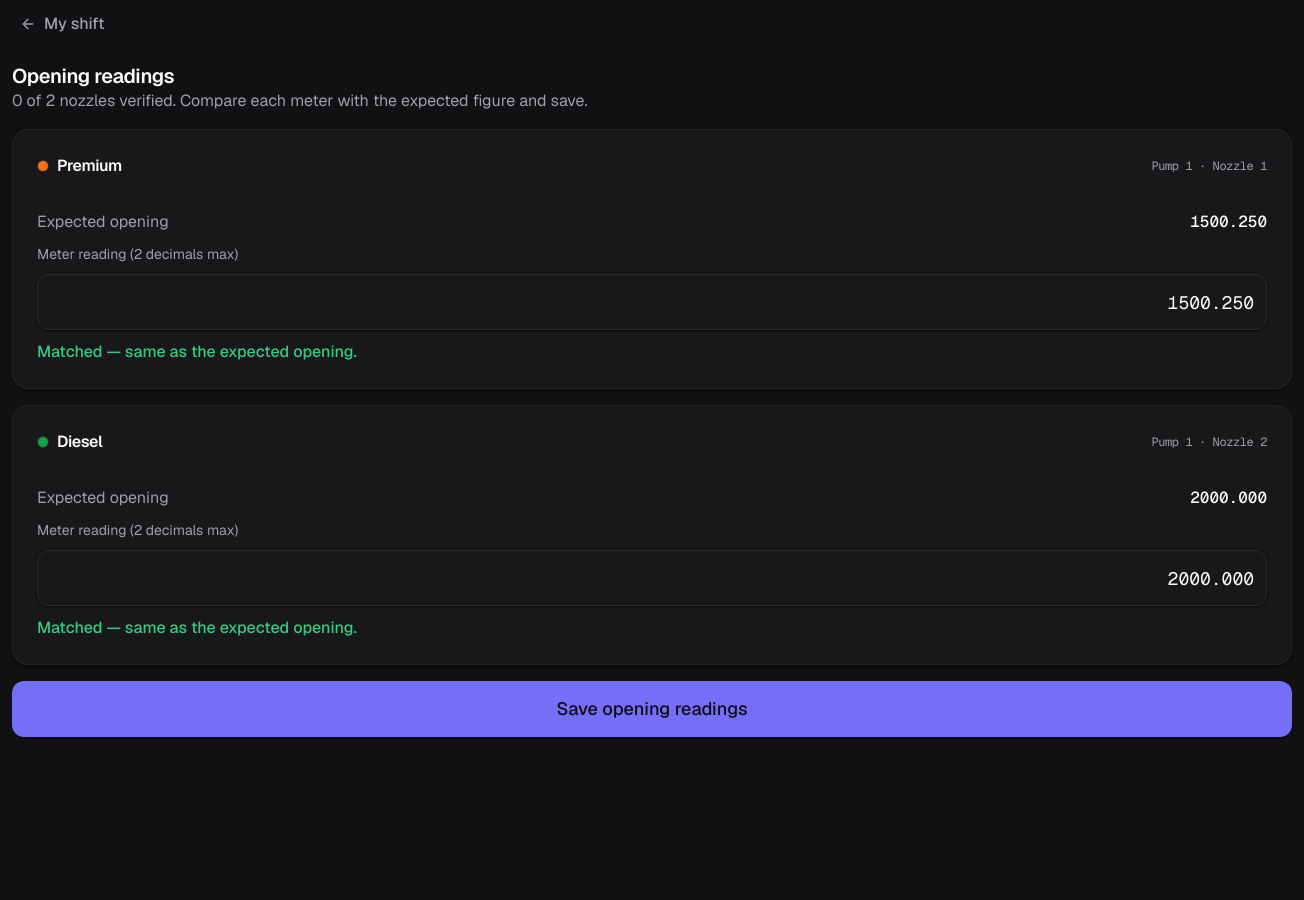
Test: OpeningReadingsPage › files a self-service incident one-tap when the actor holds incidents.report (no station_id, with dedupe_key)
Step 1. Replace the text in the field labelled "Meter reading (2 decimals max)" below "1500.250" with "1" → (652, 302), box [37,274,1267,330]
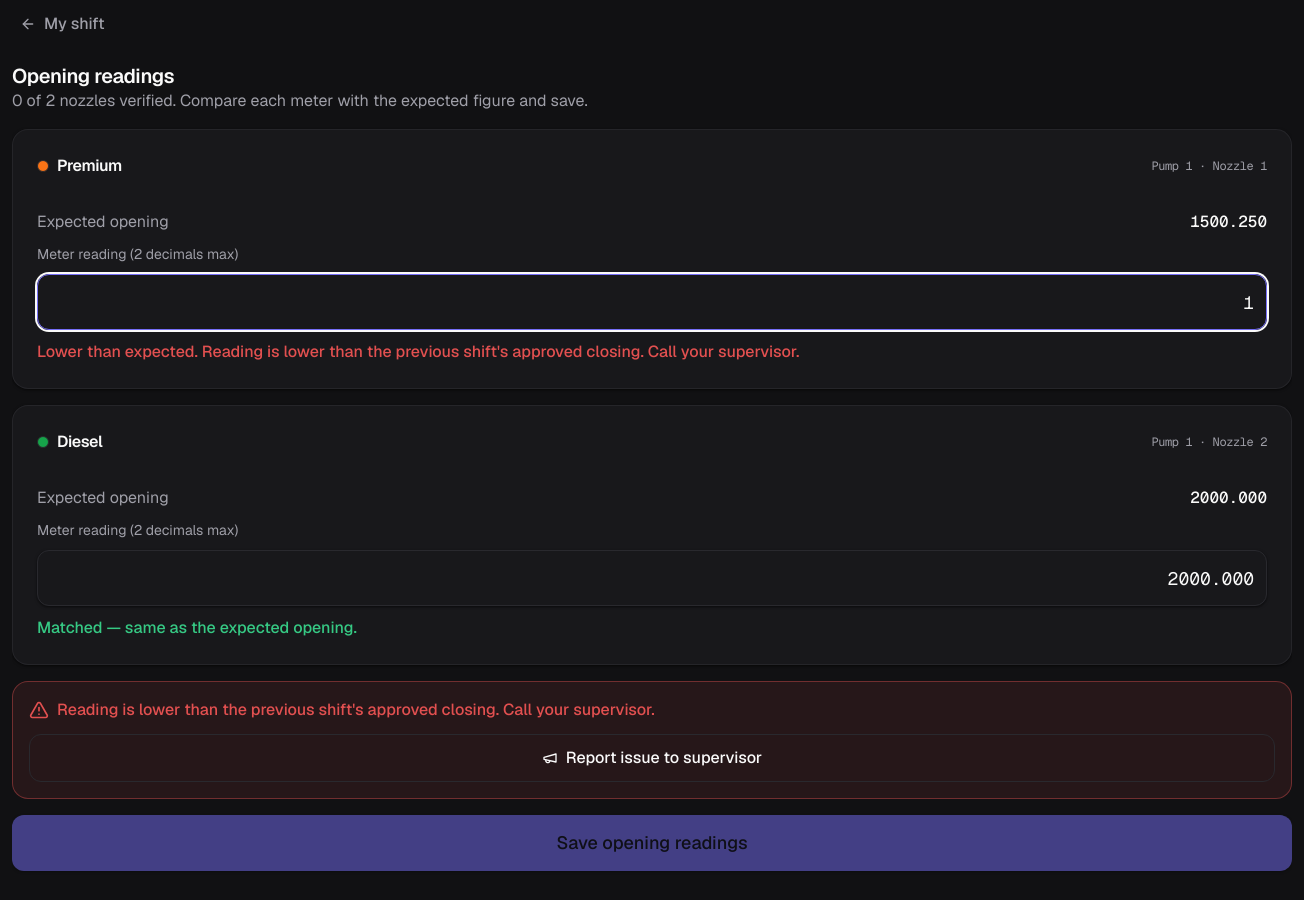
Step 2. Click the button "Report issue to supervisor" → (652, 758), box [29,734,1275,782]
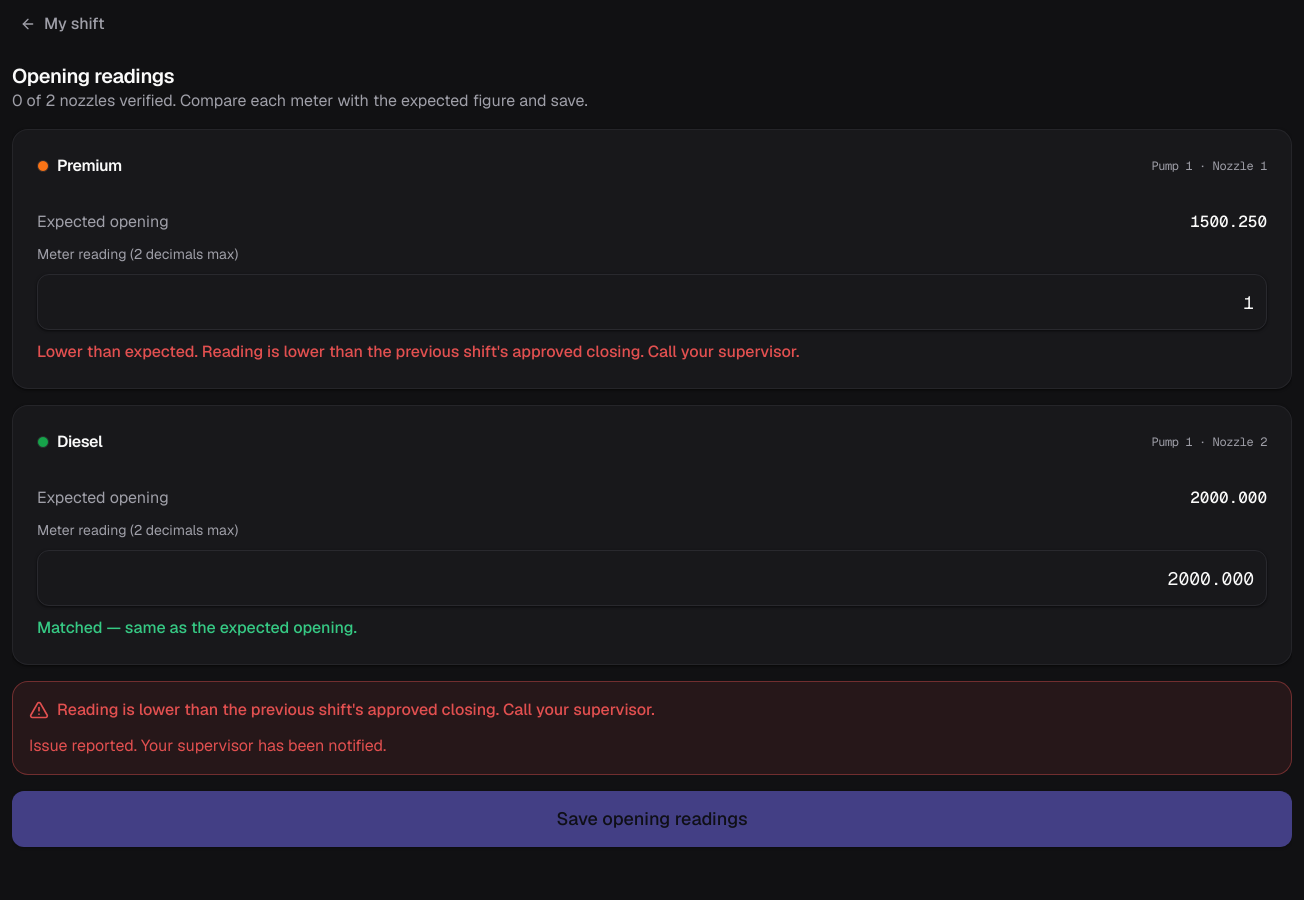
Expected: the text "Issue reported. Your supervisor has been notified." is shown, [29,735,386,756]
